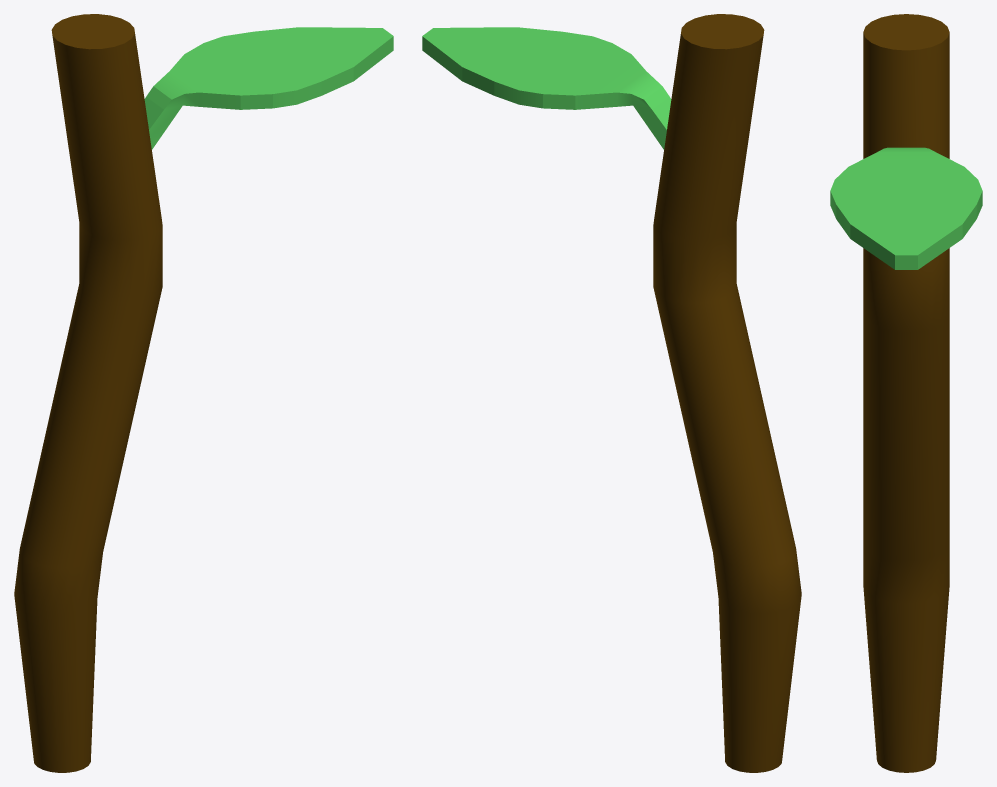
The model's file is BabyGoblin_Weapon_Test.fbx.
The picture shows the model from 3 angles, left to right: view 1: azimuth 30°, elevation 25°; view 2: azimuth 150°, elevation 25°; view 3: azimuth 270°, elevation 25°; orthographic projection. The views are drawn at different scales.
Visible parts, largest first — view 1: pCube2; view 2: pCube2; view 3: pCube2.
Boxes of the visible parts, <box> form: pCube2: <box>14,14,393,772</box>; pCube2: <box>422,14,801,772</box>; pCube2: <box>830,14,982,772</box>.
Bounding box in the file's own units: 1.78 × 3.33 × 0.6185.
